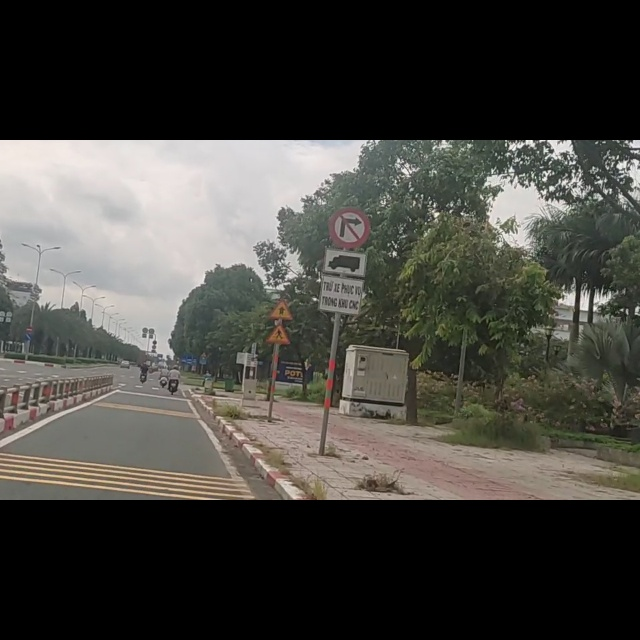bien_cam: (319, 193, 368, 312), (326, 116, 372, 192), (268, 281, 295, 320), (265, 326, 292, 364)
